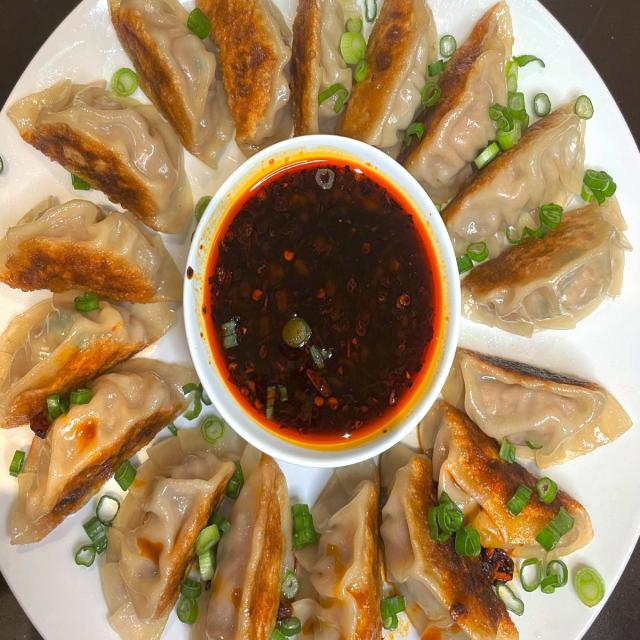fried_dumplings: (8, 68, 198, 228), (6, 356, 188, 504), (380, 448, 520, 640), (103, 426, 232, 634), (435, 405, 593, 555), (462, 195, 630, 331), (438, 102, 580, 253), (0, 302, 180, 419), (460, 347, 632, 468), (405, 1, 514, 188), (108, 1, 231, 165), (3, 196, 182, 301), (339, 0, 440, 167), (209, 457, 298, 640), (199, 0, 293, 147), (309, 467, 383, 640), (295, 1, 347, 139)
